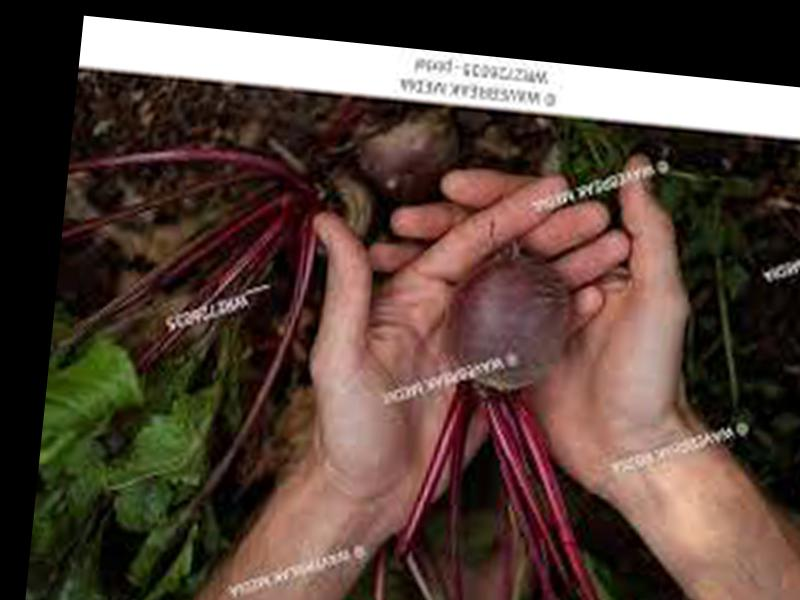Beet: (385, 231, 664, 600)
